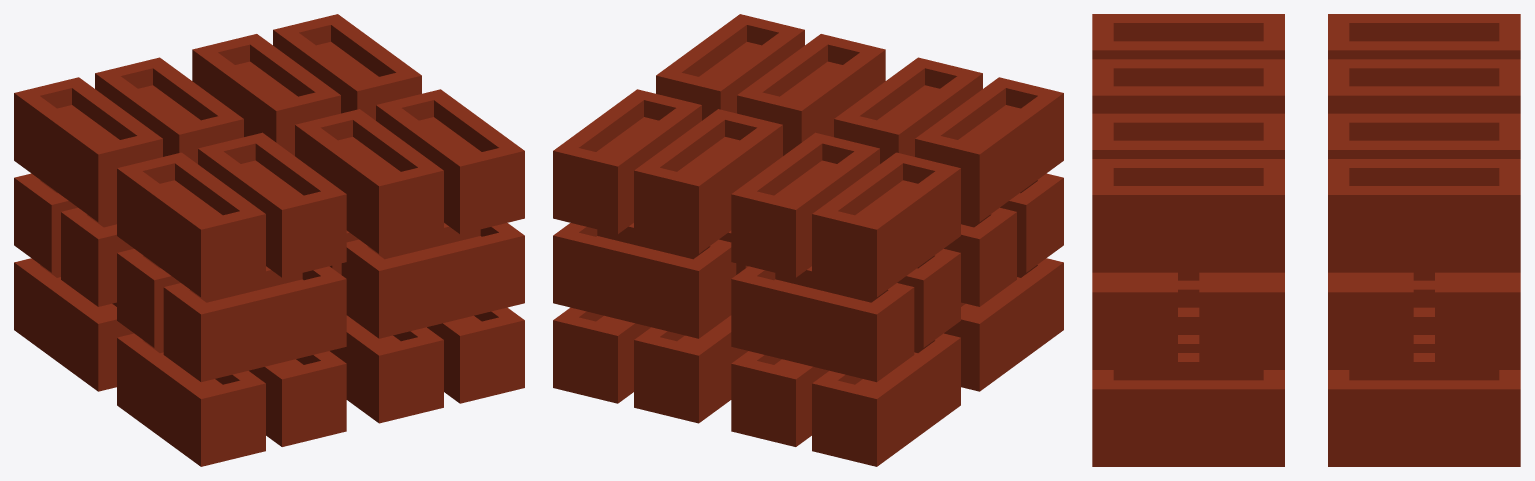
Rendered from Bricks.obj.
The picture shows the model from 3 angles, left to right: view 1: azimuth 30°, elevation 25°; view 2: azimuth 150°, elevation 25°; view 3: azimuth 270°, elevation 25°; orthographic projection. The views are drawn at different scales.
Visible parts, largest first — view 1: Bricks; view 2: Bricks; view 3: Bricks.
Part boxes in pixels (box(x1,y1,x2,y2)): Bricks: box(14, 14, 524, 466); Bricks: box(553, 14, 1063, 466); Bricks: box(1092, 14, 1520, 466).
Bounding box in the file's own units: 20 × 14 × 20.
Materials: 1 (1 with a texture image).
